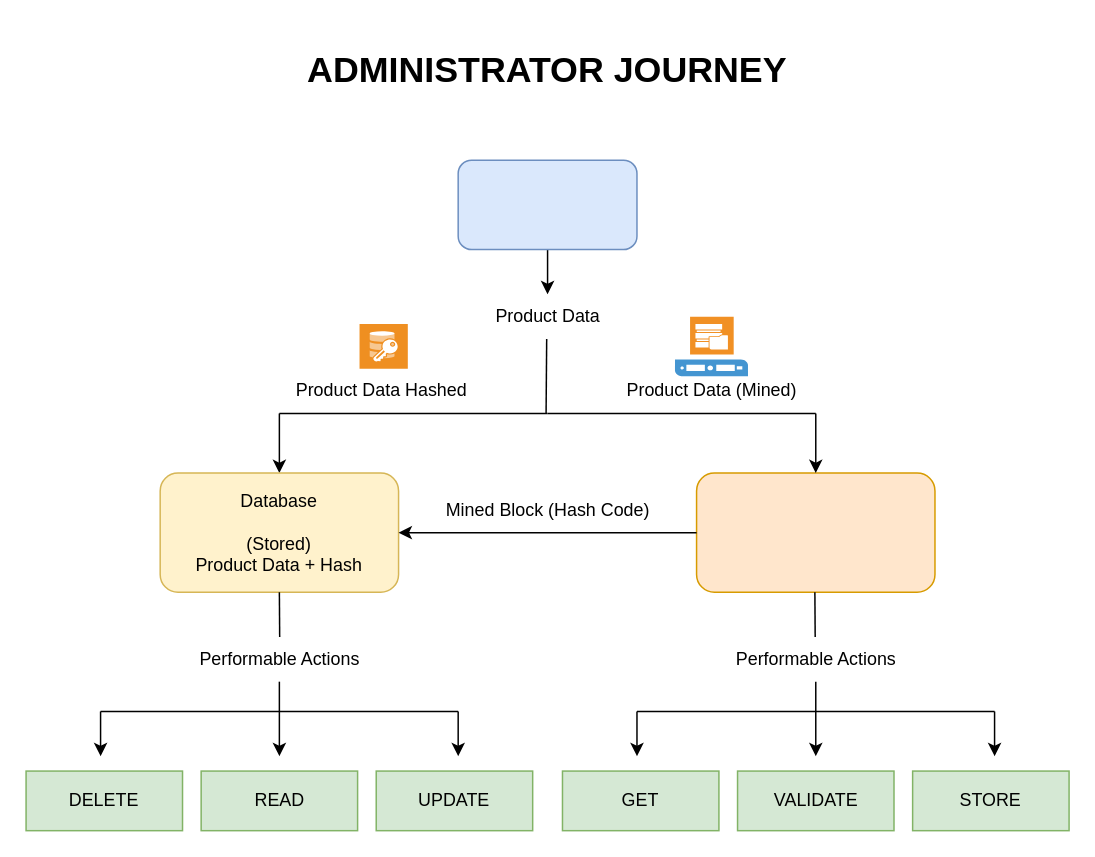
The diagram is 1095 pixels wide and 857 high, and some of its shapes have lost their labels. The centre of each missing label's shape, as x and y in pixels:
"Add Product" goes at point (547, 204).
"Blockchain" goes at point (815, 532).
